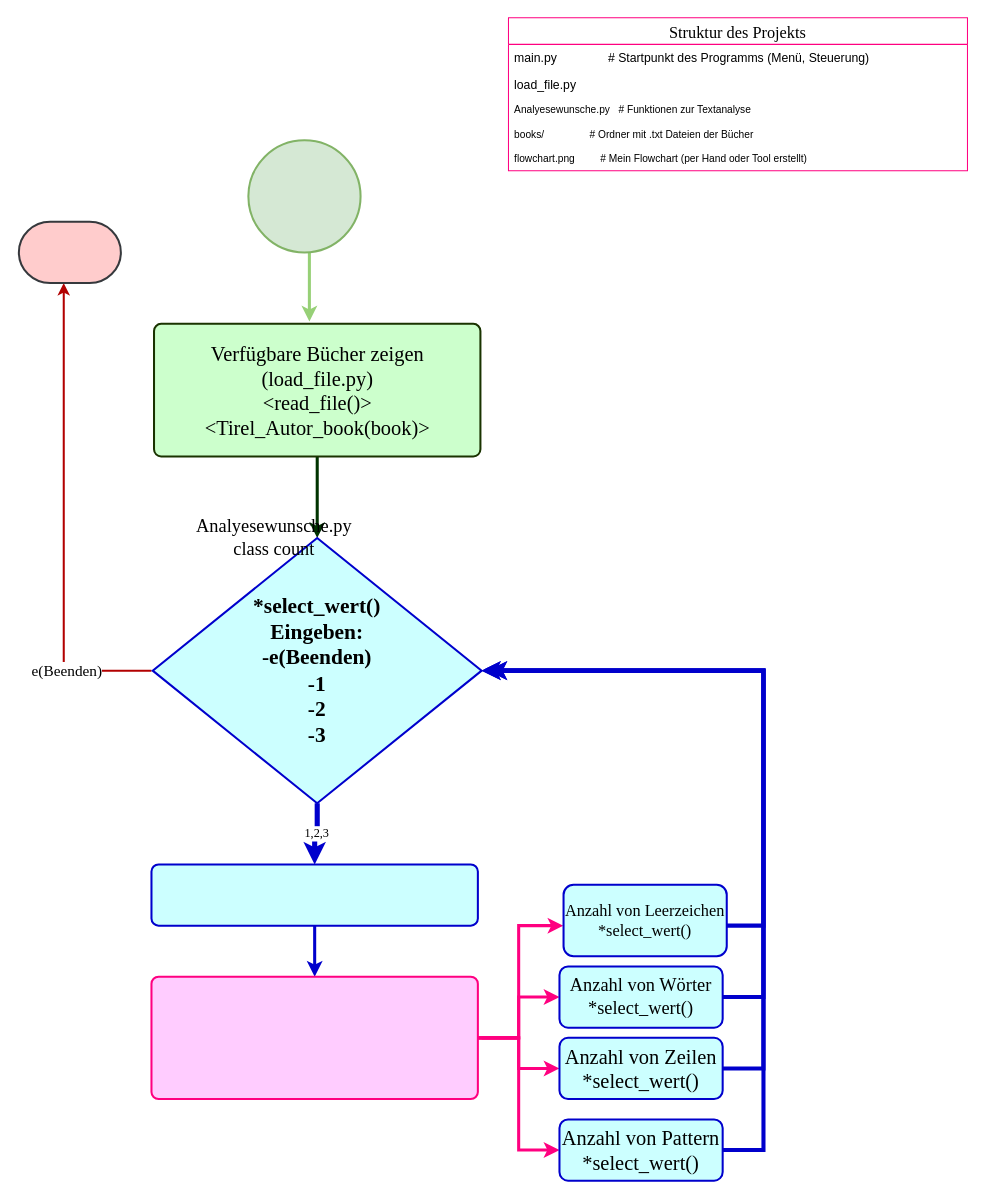
Image size: 985x1200. Some labels were removed from this diagram. Each missing label, with the centre of its shape:
"*count_s_l_w() Zählen: Anzahl von Leerzeichen,Wörter,Zeilen,Pattern" belongs at [314,1037].
"End" belongs at [69,252].
"Pattern eingeben *select_wert()" belongs at [314,894].
"Start" belongs at [304,196].
